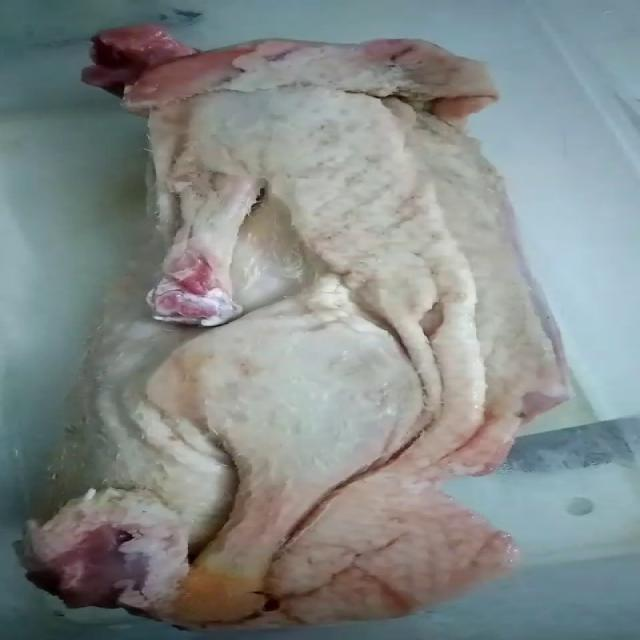chicken: (18, 22, 574, 632)
